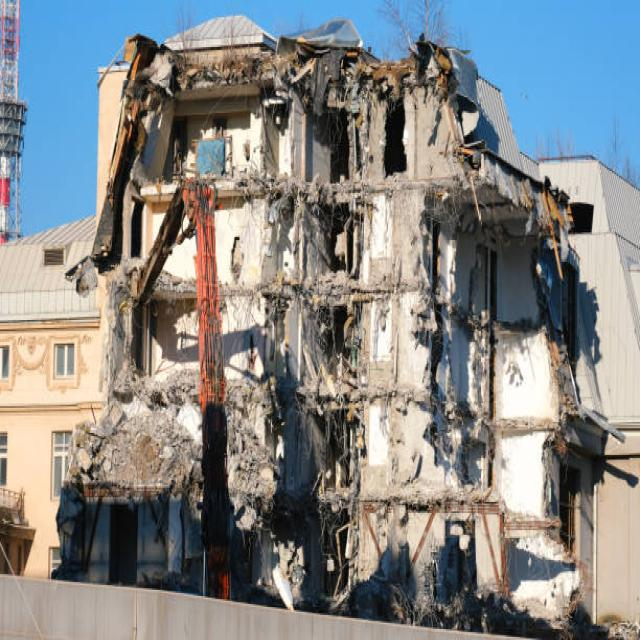Destroyed_building: (33, 3, 640, 639)
